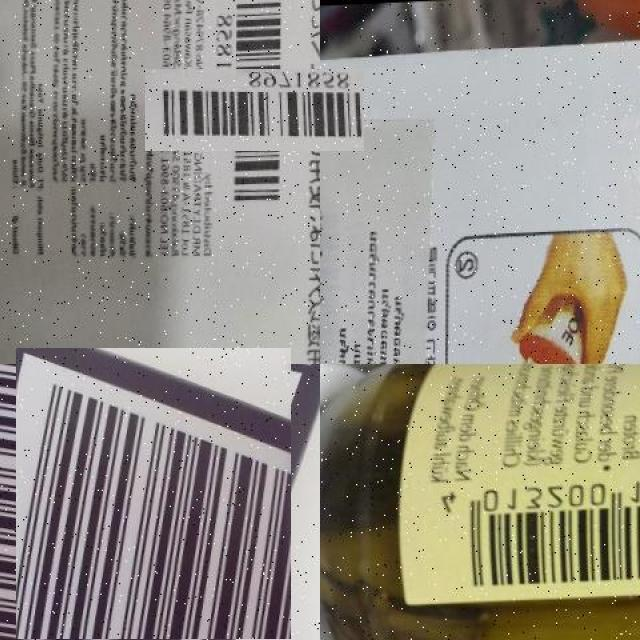Barcode: (8, 356, 300, 640), (427, 466, 640, 596), (179, 34, 330, 185)
